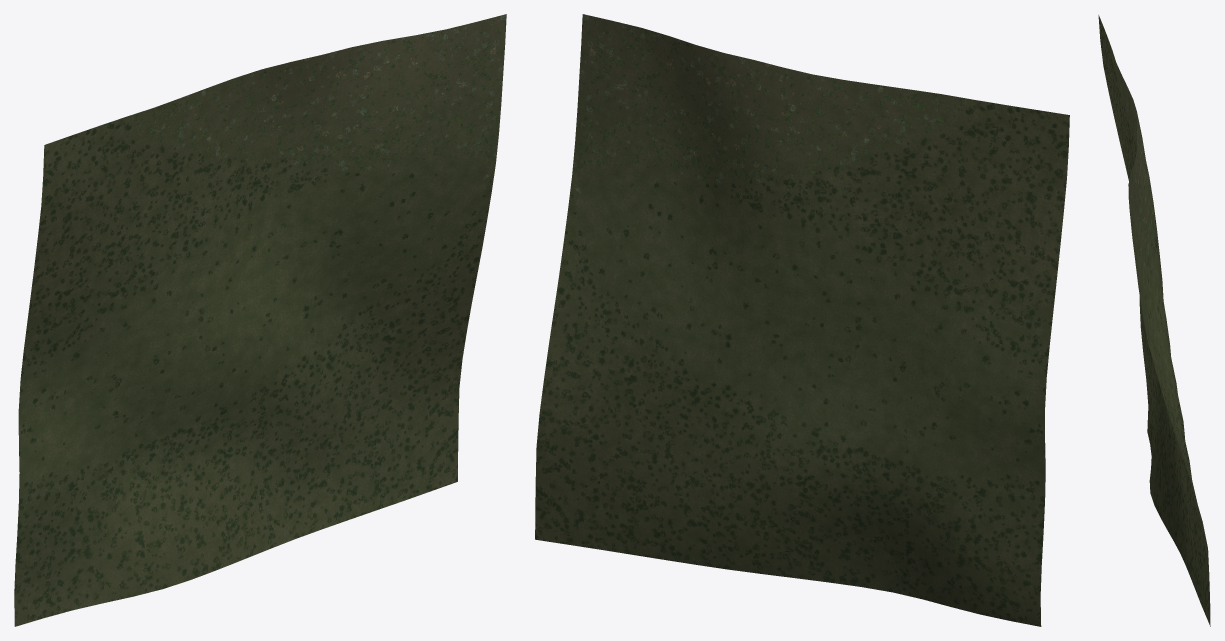
The model's file is terrain_mid_03_02.obj.
3 renders of one model, left to right at view 1: azimuth 30°, elevation 25°; view 2: azimuth 150°, elevation 25°; view 3: azimuth 270°, elevation 25°, orthographic. The views are drawn at different scales.
Parts seen in each view (by area): view 1: terrain_mid_03_02; view 2: terrain_mid_03_02; view 3: terrain_mid_03_02.
Part boxes in pixels (box(x1,y1,x2,y2)): terrain_mid_03_02: box(14, 14, 506, 626); terrain_mid_03_02: box(535, 14, 1069, 626); terrain_mid_03_02: box(1098, 15, 1210, 626).
Size of the model in its own units: 320 by 320 by 77.72.
1 material, 1 textured.
